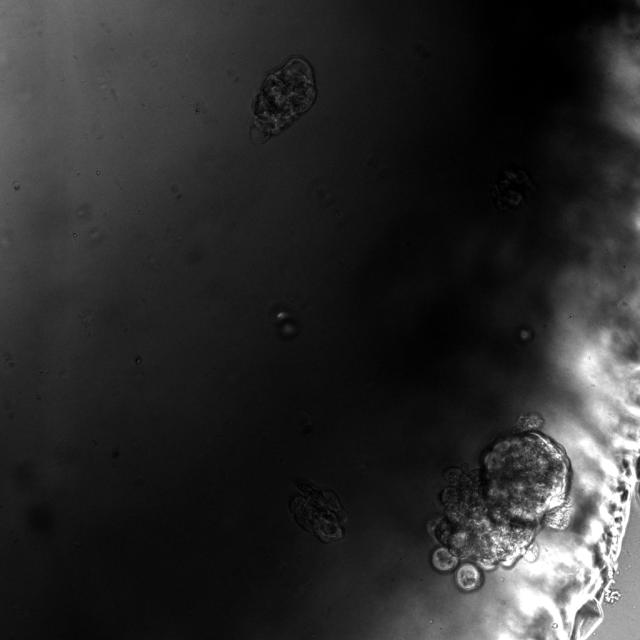organoid: (429, 413, 572, 591), (250, 57, 316, 143), (289, 481, 347, 544), (489, 168, 533, 211), (270, 308, 300, 339), (518, 325, 534, 343)
